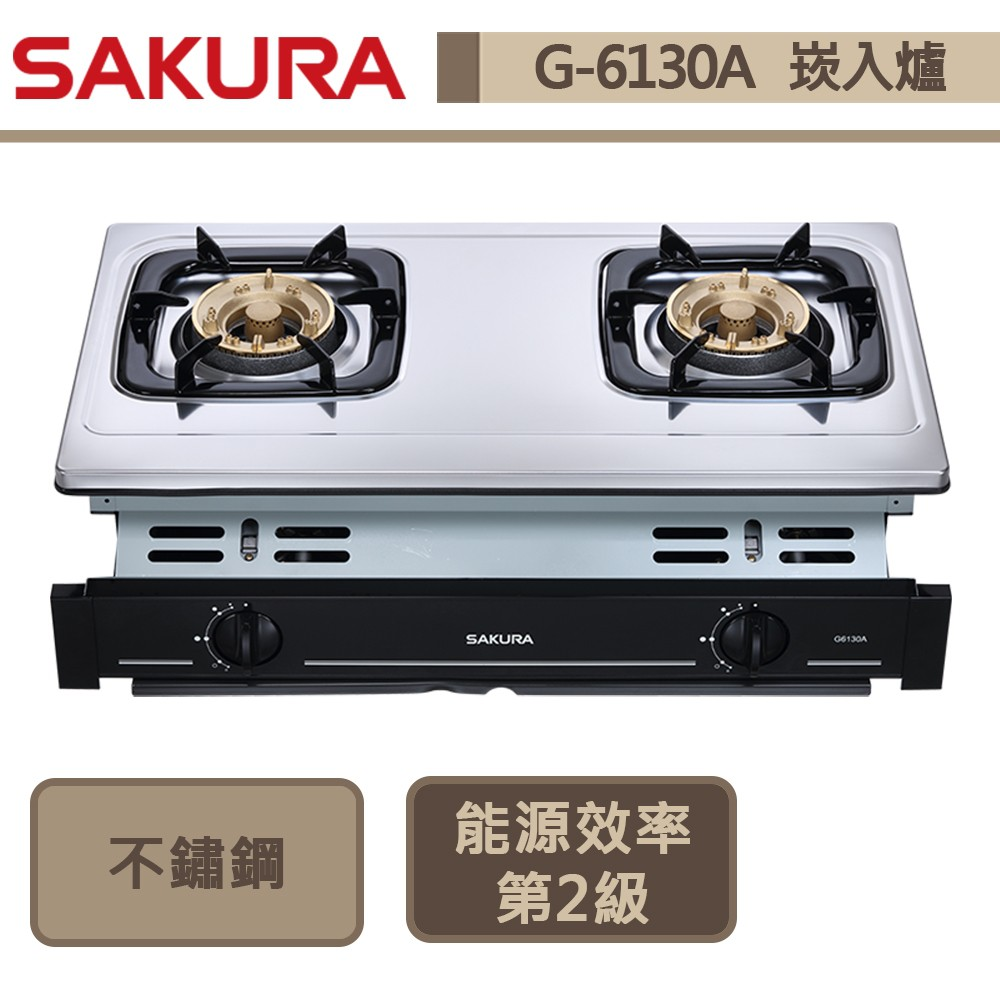gasoven: (35, 213, 969, 709)
